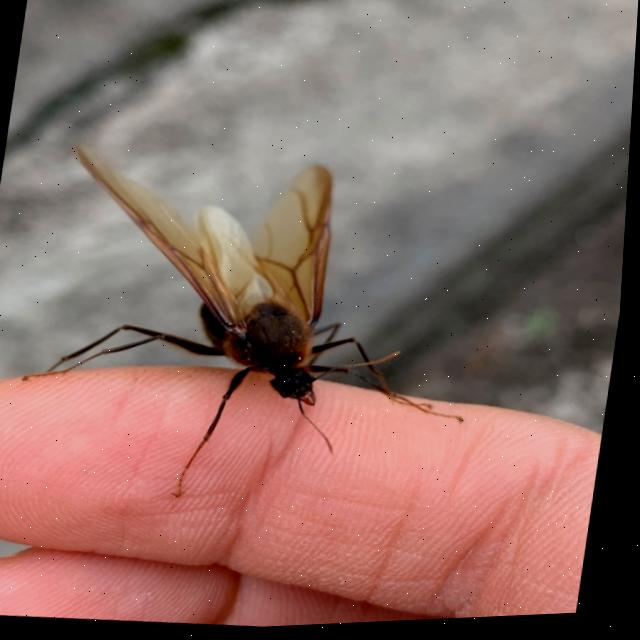Alive-Male-Alate: (9, 127, 507, 530)
